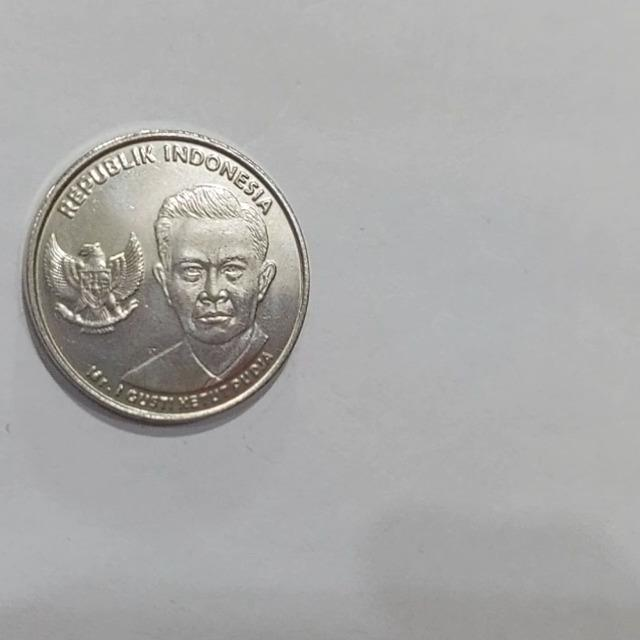Rp100: (20, 126, 311, 427), (115, 181, 280, 396), (40, 228, 146, 334)
